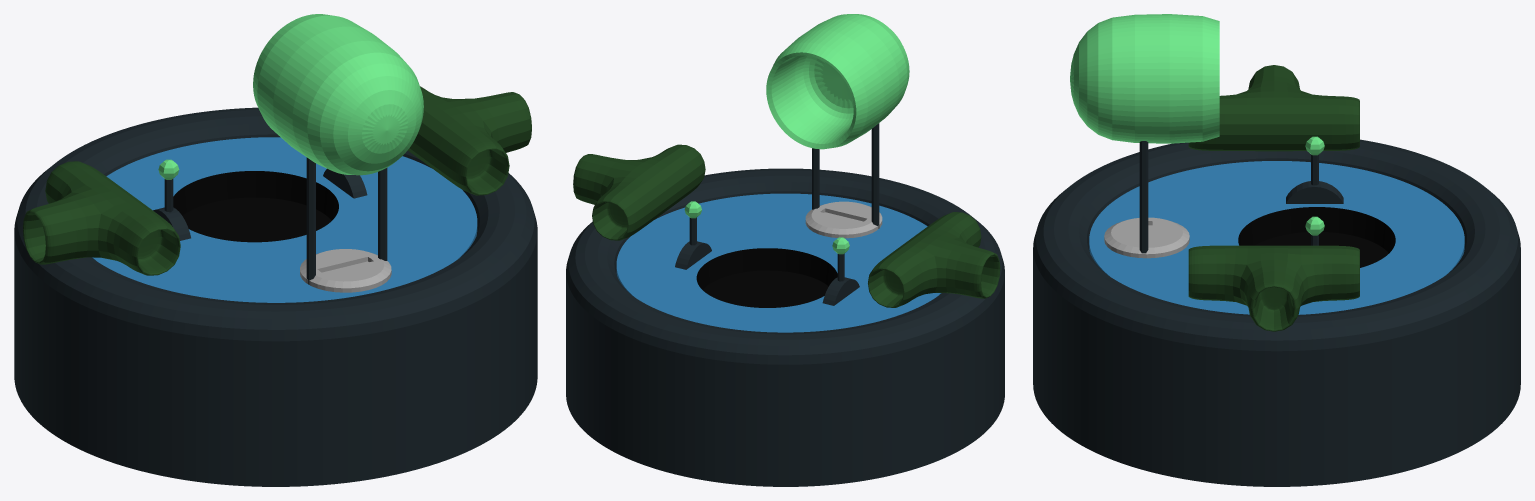
Rendered from player_ship.fbx.
3 renders of one model, left to right at view 1: azimuth 30°, elevation 25°; view 2: azimuth 150°, elevation 25°; view 3: azimuth 270°, elevation 25°, orthographic. The views are drawn at different scales.
Parts seen in each view (by area): view 1: Shell, Base.001, Cannon, LeftJets, RightJets, TurretBase, LeftTurretSupport, RightTurretSupport, RightLeverBase; view 2: Shell, Base.001, Cannon, RightJets, LeftJets, TurretBase, LeftTurretSupport, LeftLeverBase, RightLeverBase, RightTurretSupport; view 3: Shell, Base.001, Cannon, RightJets, LeftJets, TurretBase, RightTurretSupport, LeftLeverBase.
Boxes of the visible parts, <box> form: Shell: <box>14,107,537,486</box>; Base.001: <box>93,137,477,302</box>; Cannon: <box>253,14,423,175</box>; LeftJets: <box>23,161,180,275</box>; RightJets: <box>407,86,531,195</box>; TurretBase: <box>300,249,391,292</box>; LeftTurretSupport: <box>306,157,315,284</box>; RightTurretSupport: <box>378,168,387,260</box>; RightLeverBase: <box>323,168,367,198</box>; Shell: <box>566,168,1004,486</box>; Base.001: <box>616,193,940,332</box>; Cannon: <box>766,14,909,149</box>; RightJets: <box>573,144,705,240</box>; LeftJets: <box>868,212,1000,307</box>; TurretBase: <box>805,201,882,238</box>; LeftTurretSupport: <box>871,123,879,228</box>; LeftLeverBase: <box>822,277,859,305</box>; RightLeverBase: <box>675,241,711,269</box>; RightTurretSupport: <box>812,148,819,209</box>; Shell: <box>1033,139,1520,486</box>; Base.001: <box>1089,161,1464,314</box>; Cannon: <box>1070,14,1219,143</box>; RightJets: <box>1188,245,1359,331</box>; LeftJets: <box>1188,65,1359,151</box>; TurretBase: <box>1104,217,1189,258</box>; RightTurretSupport: <box>1139,141,1148,253</box>; LeftLeverBase: <box>1286,181,1343,203</box>.
Bounding box in the file's own units: 1.07 × 1 × 0.8232.
